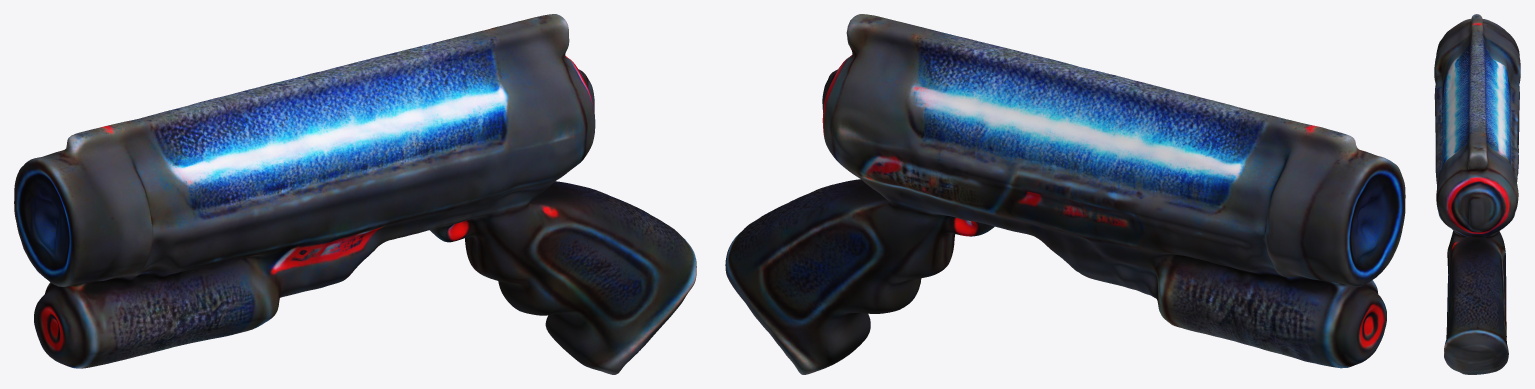
The model's file is laserBlaster.glb.
3 renders of one model, left to right at view 1: azimuth 30°, elevation 25°; view 2: azimuth 150°, elevation 25°; view 3: azimuth 270°, elevation 25°, orthographic. The views are drawn at different scales.
Parts seen in each view (by area): view 1: geometry_0; view 2: geometry_0; view 3: geometry_0.
Part boxes in pixels (bbox=[...]): geometry_0: bbox=[14, 14, 696, 374]; geometry_0: bbox=[725, 14, 1405, 374]; geometry_0: bbox=[1434, 14, 1520, 374].
Size of the model in its own units: 0.5593 by 0.2998 by 0.112.
Materials: 1 (1 with a texture image).
